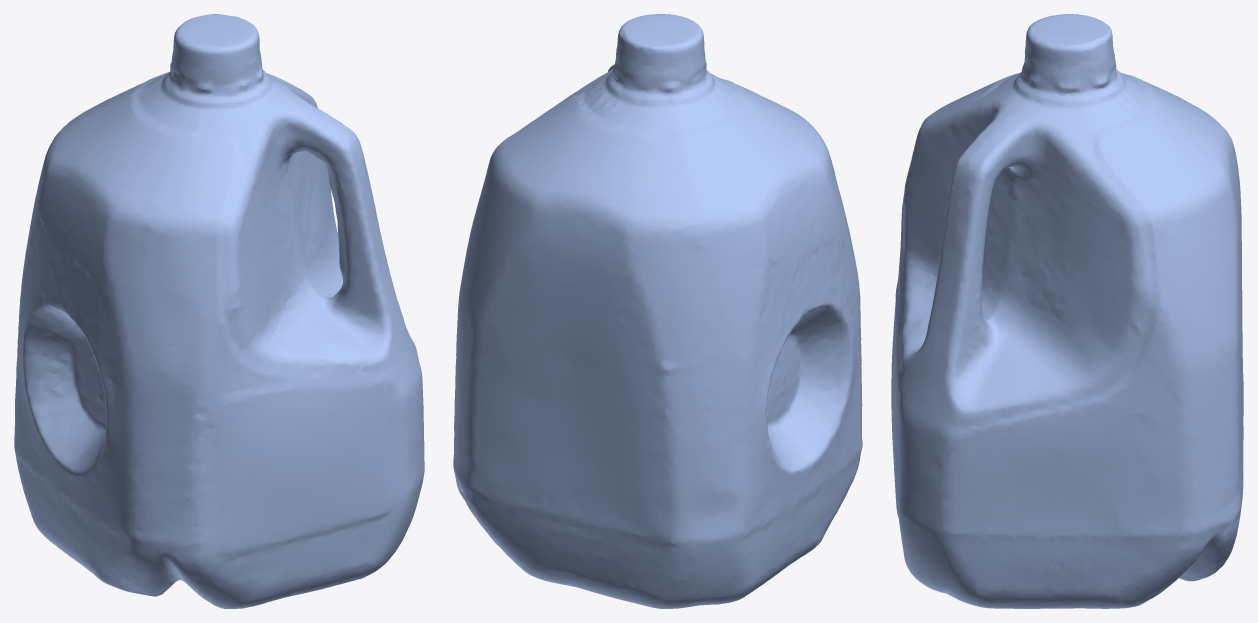
Rendered from jug.fbx.
3 renders of one model, left to right at view 1: azimuth 30°, elevation 25°; view 2: azimuth 150°, elevation 25°; view 3: azimuth 270°, elevation 25°, orthographic.
Visible parts, largest first — view 1: Mesh; view 2: Mesh; view 3: Mesh.
Part boxes in pixels (x1,y1,x2,y2): Mesh: (14, 14, 424, 608); Mesh: (453, 14, 862, 608); Mesh: (891, 14, 1243, 608).
Bounding box in the file's own units: 15.51 × 25.33 × 15.43.
